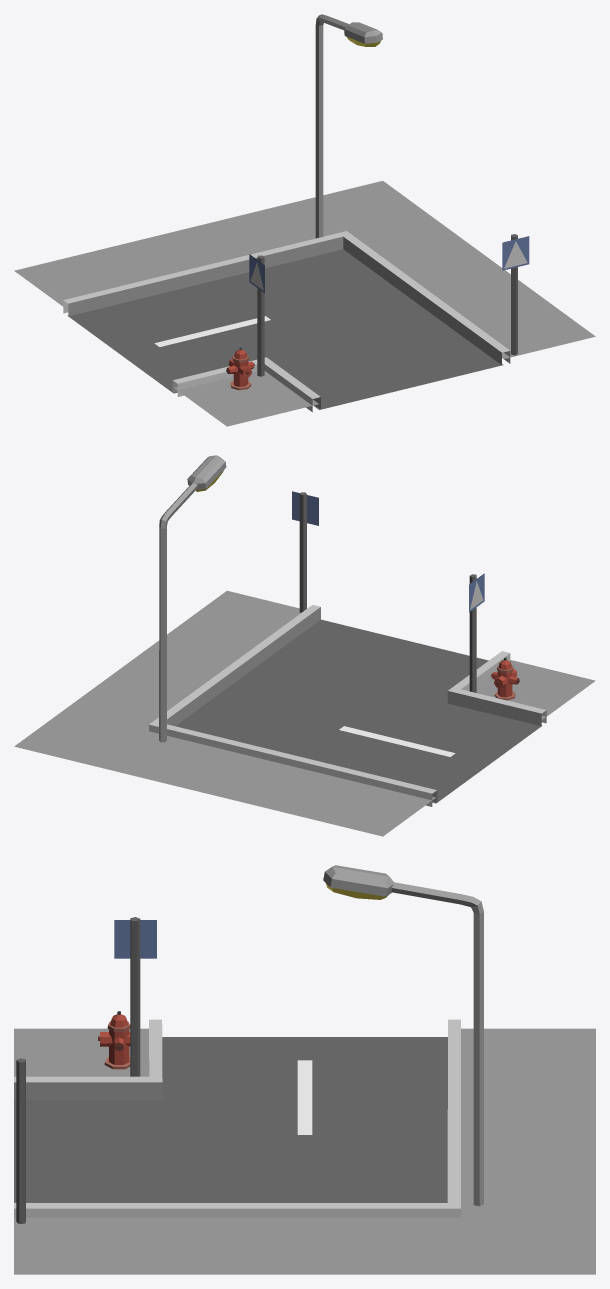
Rendered from road_tile_1x1_011.fbx.
3 views of the same model, one above another, from view 1: azimuth 30°, elevation 25°; view 2: azimuth 150°, elevation 25°; view 3: azimuth 270°, elevation 25° (orthographic). The views are drawn at different scales.
Parts seen in each view (by area): view 1: road_tile_1x1_011; view 2: road_tile_1x1_011; view 3: road_tile_1x1_011.
Part boxes in pixels (left/top/right/bottom): road_tile_1x1_011: left=14, top=14, right=595, bottom=426; road_tile_1x1_011: left=14, top=455, right=595, bottom=836; road_tile_1x1_011: left=14, top=865, right=595, bottom=1274.
Size of the model in its own units: 800 by 525 by 800.
